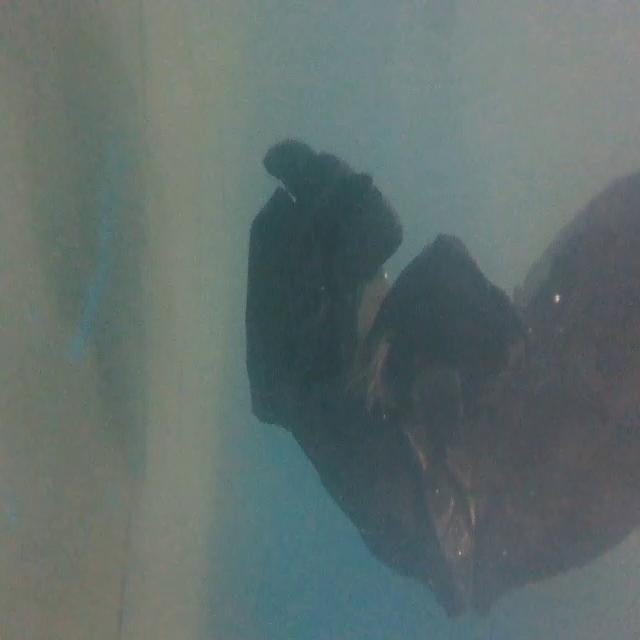plastic bags: (240, 138, 640, 618)
